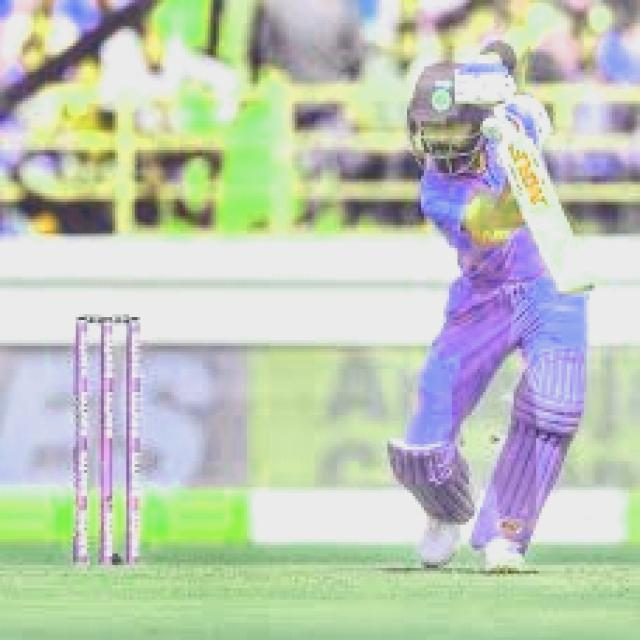toe: (544, 258, 598, 304)
